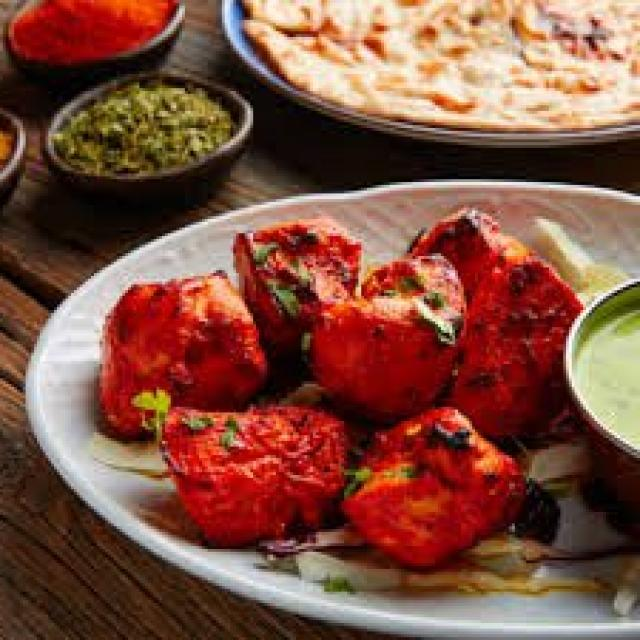Chicken Tikka: (92, 201, 586, 570)
